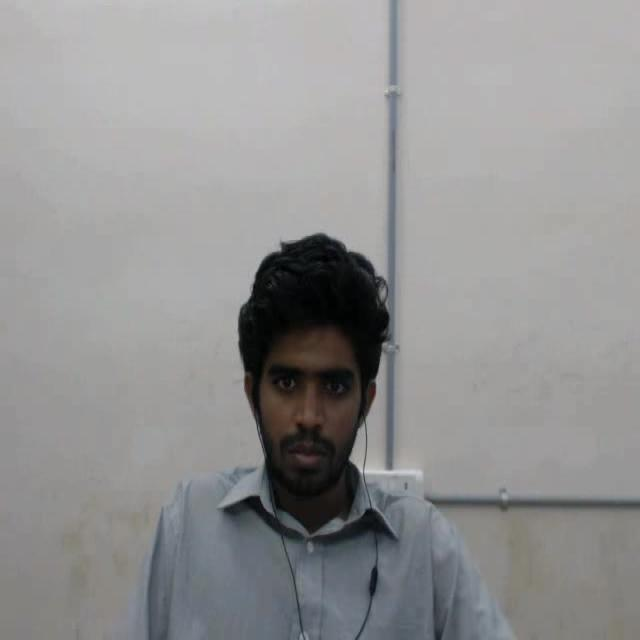Engaged: (220, 206, 397, 523)
